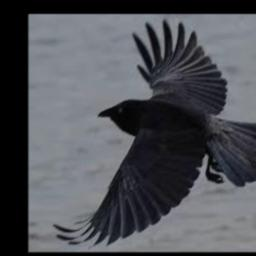Crow: (52, 20, 256, 247)
